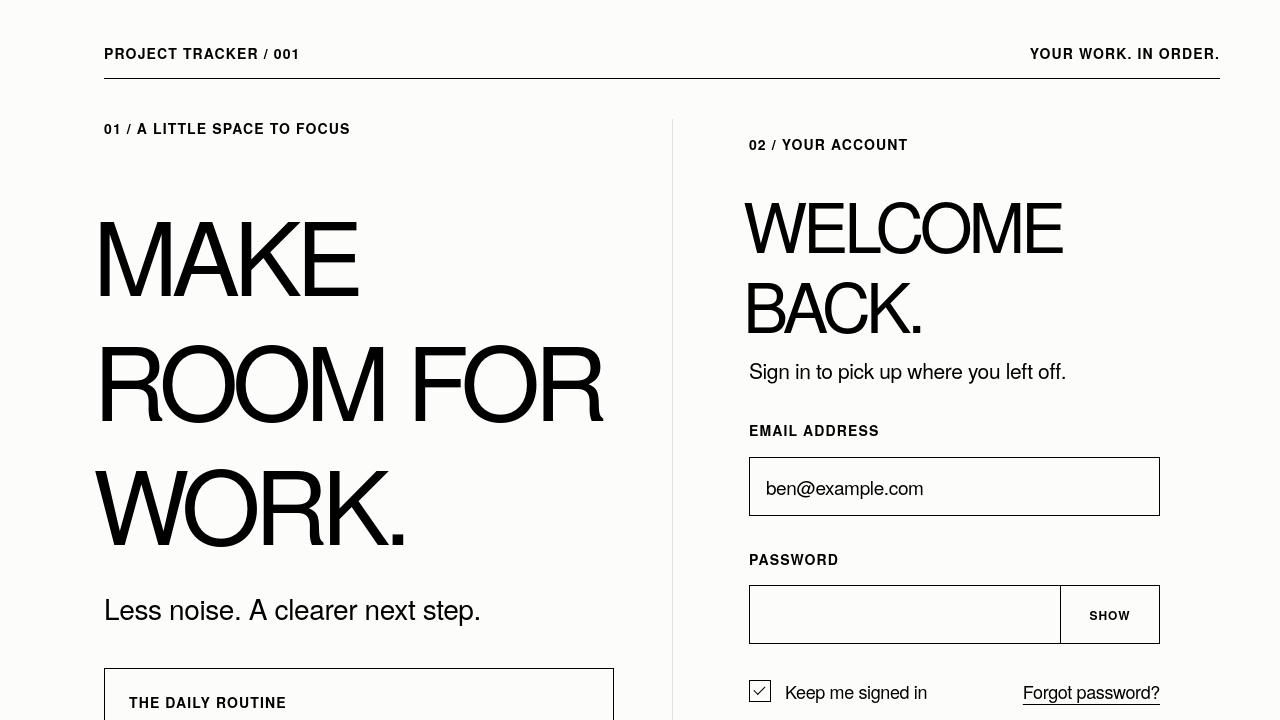
Test case: frontend workflows › redirects to login, explains account limitations, and signs in to the requested destination
Type "demo-password" into the password field labelled "Password" at (904, 615), box [749,586,1060,644]
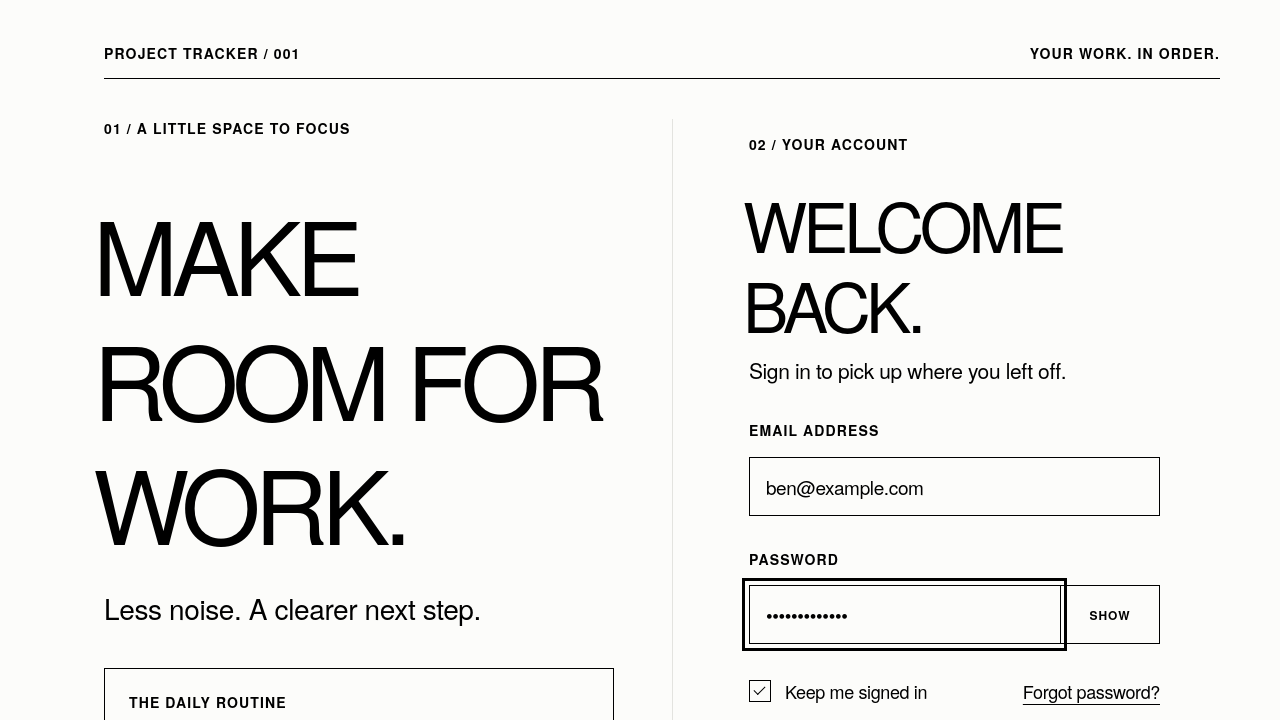
Click the button "SHOW" at (1110, 615), box [1060,586,1160,644]
(page scrolled)
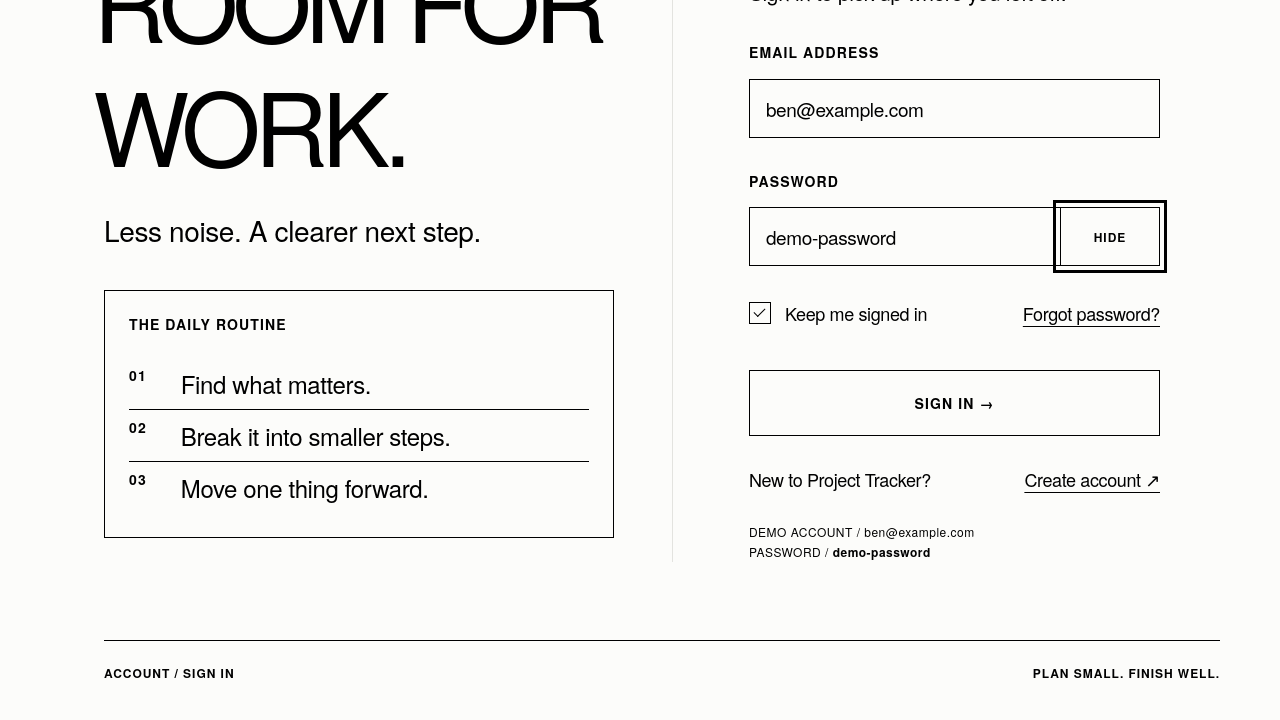
Now the field labelled "Password" shows its text, box [749,208,1060,266]
Click the button "SIGN IN →" at (954, 404), box [749,370,1160,436]
(page scrolled)
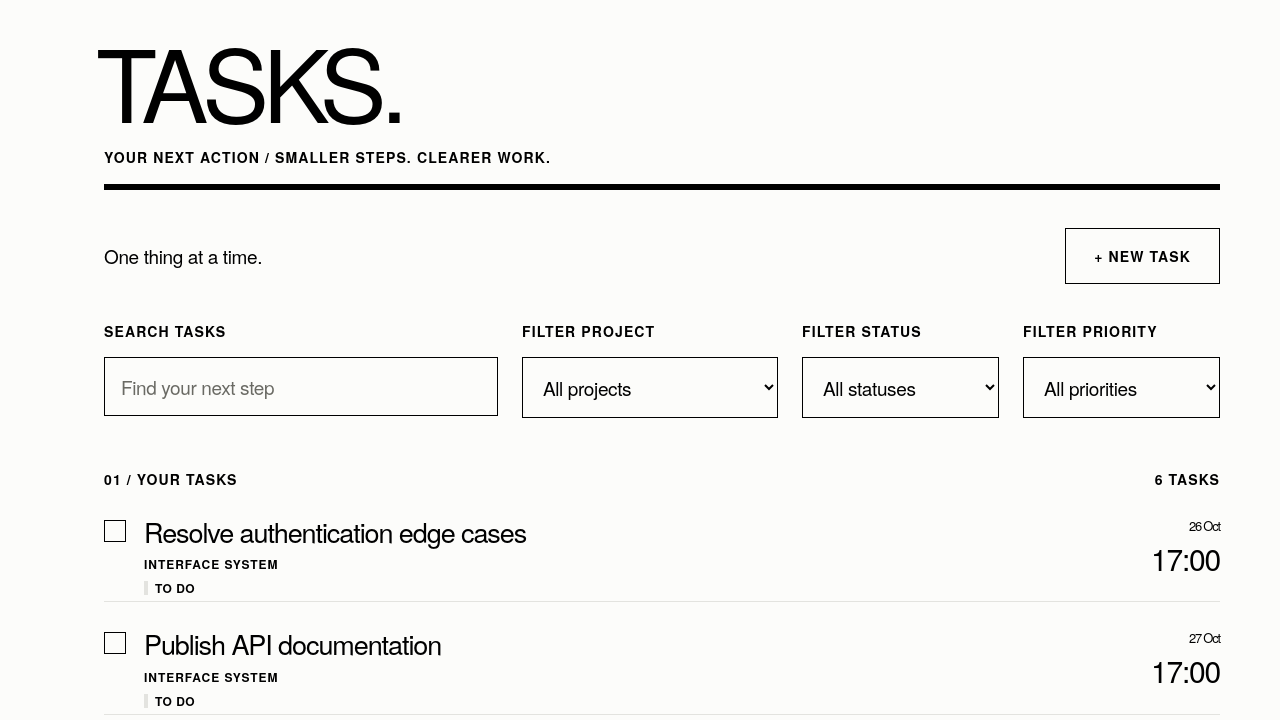
Now the heading "TASKS." is shown, box [96,8,402,151]
